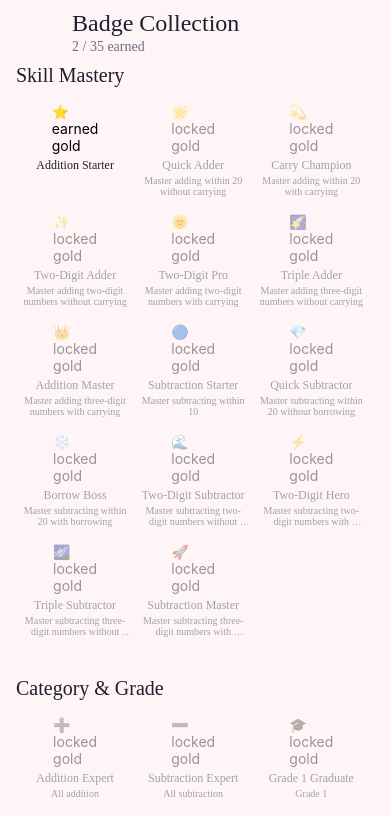
Test: BadgeCollectionScreen › shows detail overlay with badge name and description when badge is tapped
Note: Tap on the badge name in the grid
Click the text "Addition Starter": (75, 166) [36,158,114,173]
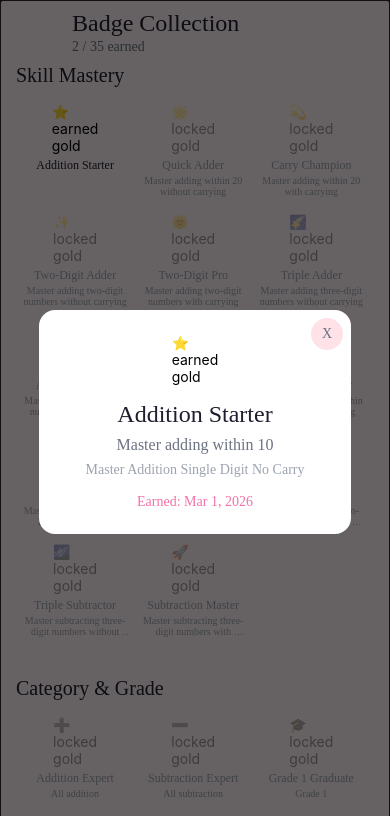
Now the text "Master adding within 10" is shown, box [117,436,274,454]
